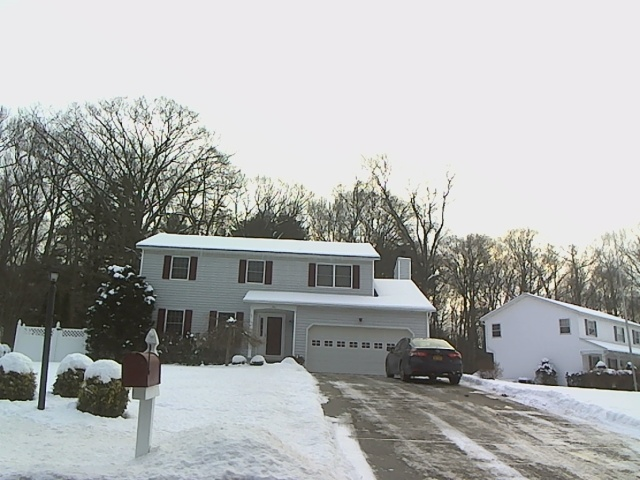Ploughed: (325, 376, 587, 477)
